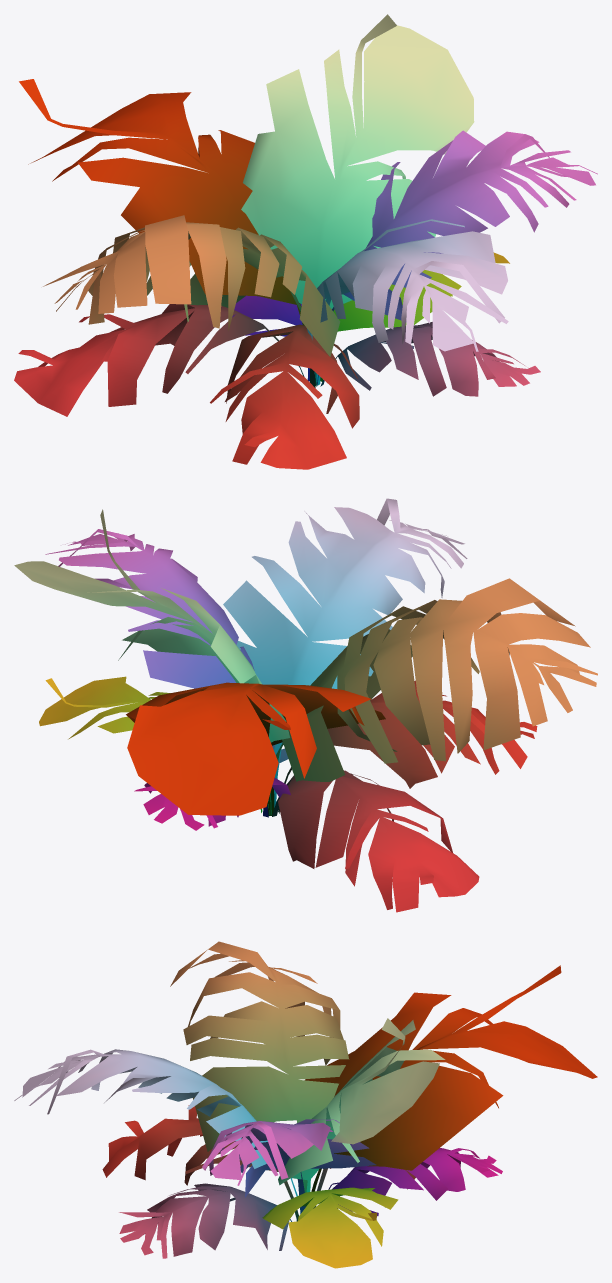
File: Tropical_Palm_rkqjj_Low_rkqjj_VarA_LOD0.fbx
The picture shows the model from 3 angles, top to bottom: view 1: azimuth 30°, elevation 25°; view 2: azimuth 150°, elevation 25°; view 3: azimuth 270°, elevation 25°; orthographic projection. The views are drawn at different scales.
Parts seen in each view (by area): view 1: _4906_VarA_LOD2; view 2: _4906_VarA_LOD2; view 3: _4906_VarA_LOD2.
Boxes of the visible parts, x1,y1,x2,y2 form: _4906_VarA_LOD2: (14,14,597,469); _4906_VarA_LOD2: (14,498,597,912); _4906_VarA_LOD2: (14,941,597,1268).
Size of the model in its own units: 327 by 180 by 349.
